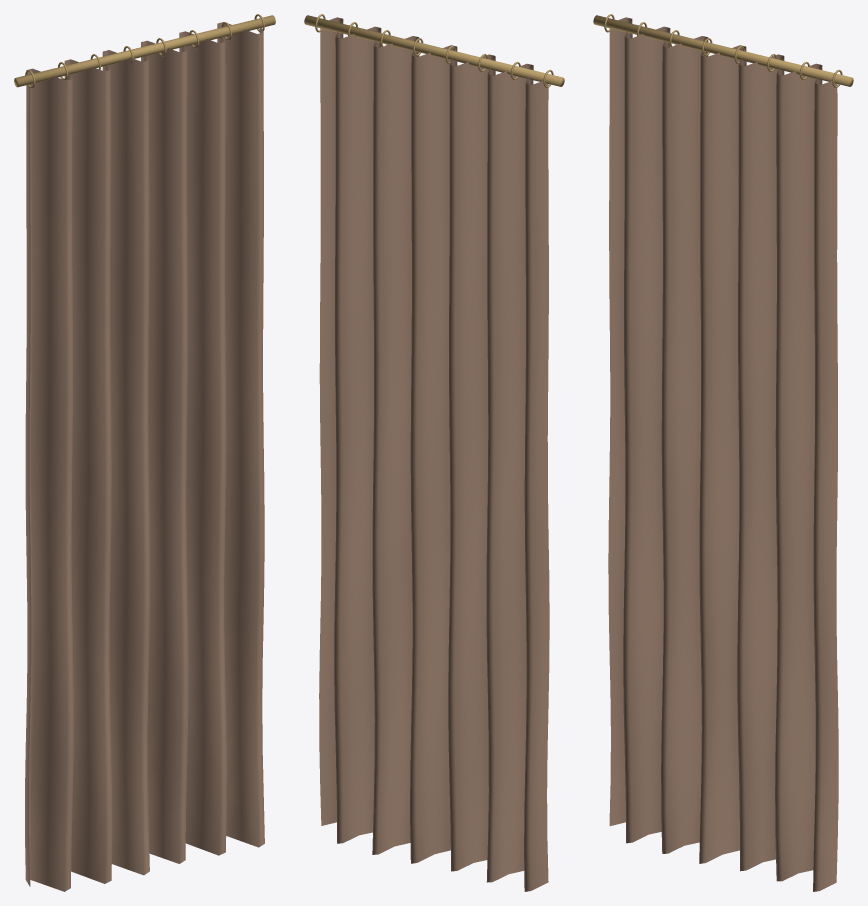
File: contemporary.curtain.gltf
3 renders of one model, left to right at view 1: azimuth 30°, elevation 25°; view 2: azimuth 150°, elevation 25°; view 3: azimuth 330°, elevation 25°, orthographic.
Parts seen in each view (by area): view 1: contemporary.curtain.linen-falls; view 2: contemporary.curtain.linen-falls; view 3: contemporary.curtain.linen-falls.
Boxes of the visible parts, x1=… form: contemporary.curtain.linen-falls: x1=14, y1=14, x2=275, y2=891; contemporary.curtain.linen-falls: x1=304, y1=14, x2=564, y2=891; contemporary.curtain.linen-falls: x1=593, y1=14, x2=853, y2=891.
Bounding box in the file's own units: 0.728 × 2.22 × 0.1169.
2 materials, 1 textured.
